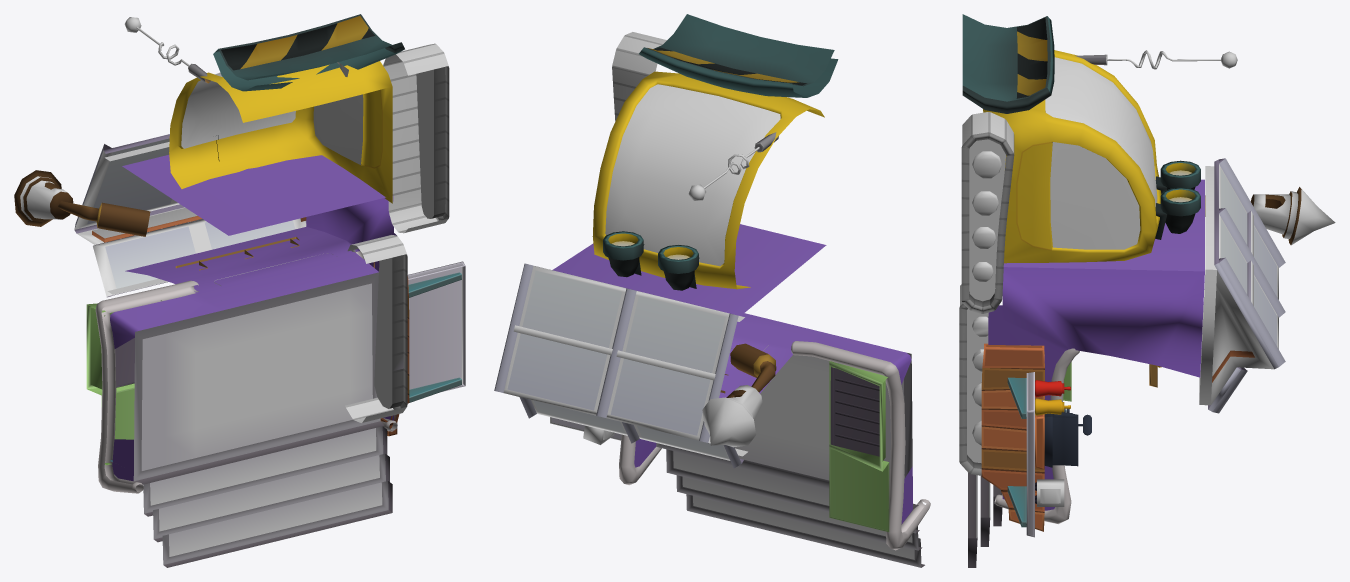
File: fishDogTruck.fbx
3 renders of one model, left to right at view 1: azimuth 30°, elevation 25°; view 2: azimuth 150°, elevation 25°; view 3: azimuth 270°, elevation 25°, orthographic. The views are drawn at different scales.
Parts seen in each view (by area): view 1: fishDogTruck; view 2: fishDogTruck; view 3: fishDogTruck.
Boxes of the visible parts, x1,y1,x2,y2 form: fishDogTruck: (14,14,465,567); fishDogTruck: (494,14,930,567); fishDogTruck: (959,14,1335,567).
Bounding box in the file's own units: 368 × 473 × 332.
